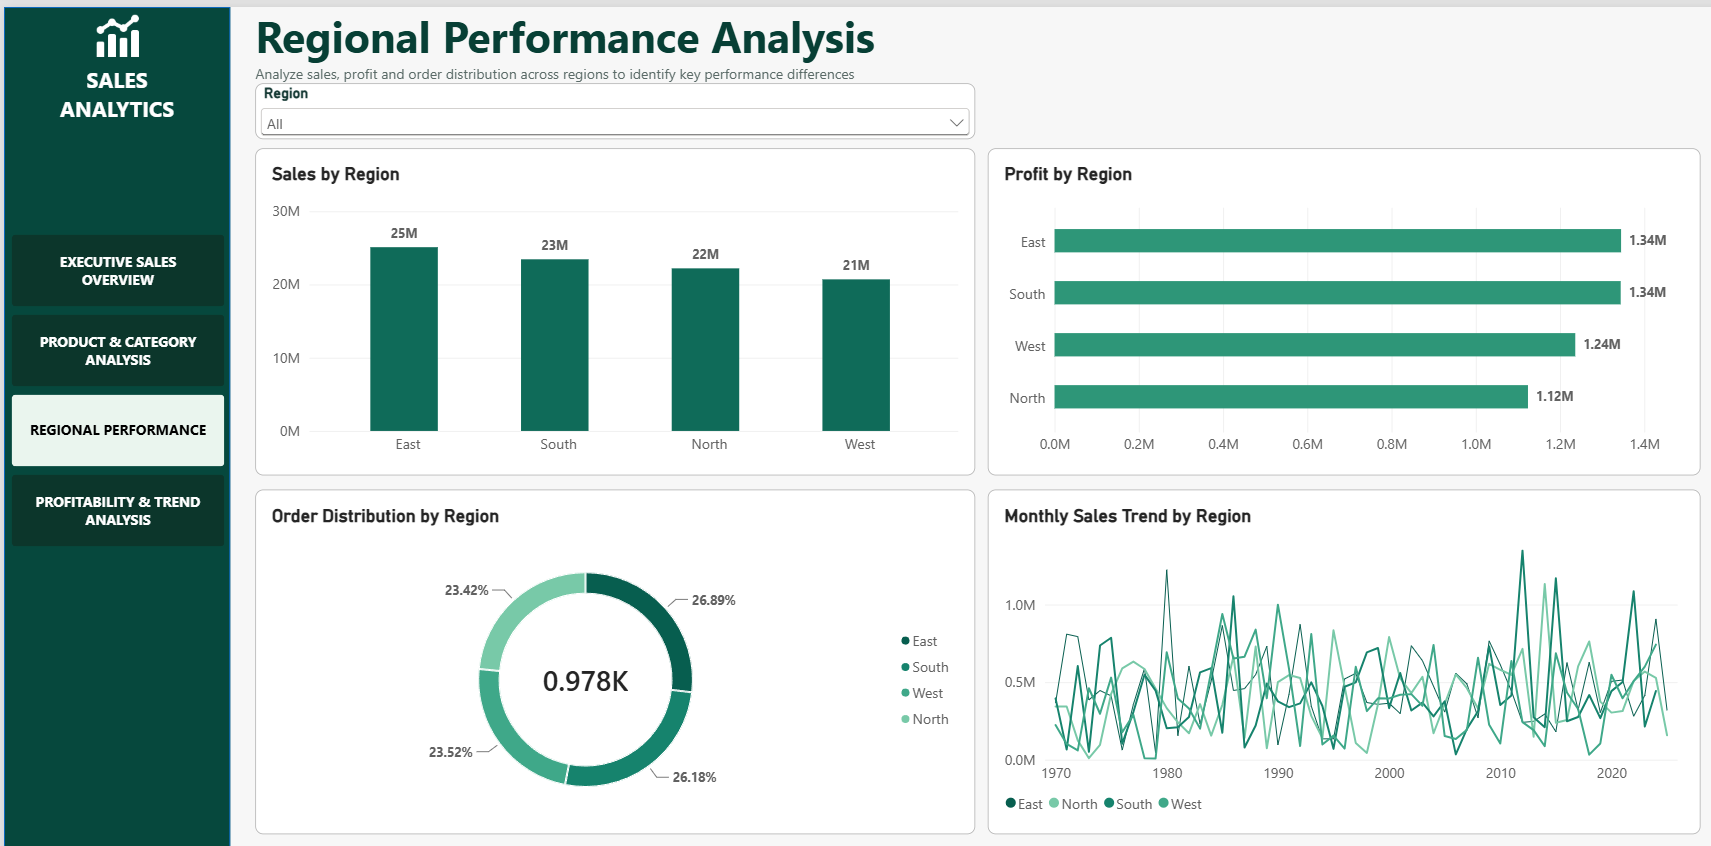

The dashboard page shown, as its layout file describes it:
{"tool":"powerbi","page":{"name":"REGIONAL PERFORMANCE ","canvas":[1920,1080],"ordinal":3},"visuals":[{"type":"shape","box":[0,0,226.2,855],"z":0},{"type":"image","box":[73.8,0,80,57.5],"z":1000},{"type":"textbox","box":[0,57.5,226.2,66.2],"z":2000},{"type":"pageNavigator","box":[7.5,227.5,213.8,312.5],"z":3000},{"type":"textbox","box":[251,0,1005,76],"z":3001},{"type":"slicer","fields":{"Values":["SalesData_1000Rows_WithIssues_copy.Region"]},"box":[251.2,76.2,720,56.2],"z":3002},{"type":"clusteredColumnChart","title":"Sales by Region","fields":{"Category":["SalesData_1000Rows_WithIssues_copy.Region"],"Y":["Sum(SalesData_1000Rows_WithIssues_copy.Sales)"]},"box":[251.2,141.2,720,327.5],"z":3003},{"type":"clusteredBarChart","title":"Profit by Region","fields":{"Category":["SalesData_1000Rows_WithIssues_copy.Region"],"Y":["Sum(SalesData_1000Rows_WithIssues_copy.Profit)"]},"box":[983.8,141.2,712.5,327.5],"z":3004},{"type":"donutChart","title":"Order Distribution by Region","fields":{"Category":["SalesData_1000Rows_WithIssues_copy.Region"],"Y":["CountNonNull(SalesData_1000Rows_WithIssues_copy.OrderID)"]},"box":[251.2,482.5,720,345],"z":3005},{"type":"lineChart","title":"Monthly Sales Trend by Region","fields":{"Category":["SalesData_1000Rows_WithIssues_copy.OrderDate.Variation.Date Hierarchy.Year"],"Y":["Sum(SalesData_1000Rows_WithIssues_copy.Sales)"],"Series":["SalesData_1000Rows_WithIssues_copy.Region"]},"box":[983.8,482.5,712.5,345],"z":3006}]}

Visuals, with their boxes on the page's 1920x1080 design canvas (x1, y1, x2, y2). These are canvas units, not pixel positions in the 1711x846 screenshot, which may show the page scaled, cropped or inside an application window:
shape: (x1=0, y1=0, x2=226, y2=855)
image: (x1=74, y1=0, x2=154, y2=58)
textbox: (x1=0, y1=58, x2=226, y2=124)
pageNavigator: (x1=8, y1=228, x2=221, y2=540)
textbox: (x1=251, y1=0, x2=1256, y2=76)
slicer - SalesData_1000Rows_WithIssues_copy.Region: (x1=251, y1=76, x2=971, y2=132)
"Sales by Region" clusteredColumnChart: (x1=251, y1=141, x2=971, y2=469)
"Profit by Region" clusteredBarChart: (x1=984, y1=141, x2=1696, y2=469)
"Order Distribution by Region" donutChart: (x1=251, y1=482, x2=971, y2=828)
"Monthly Sales Trend by Region" lineChart: (x1=984, y1=482, x2=1696, y2=828)
